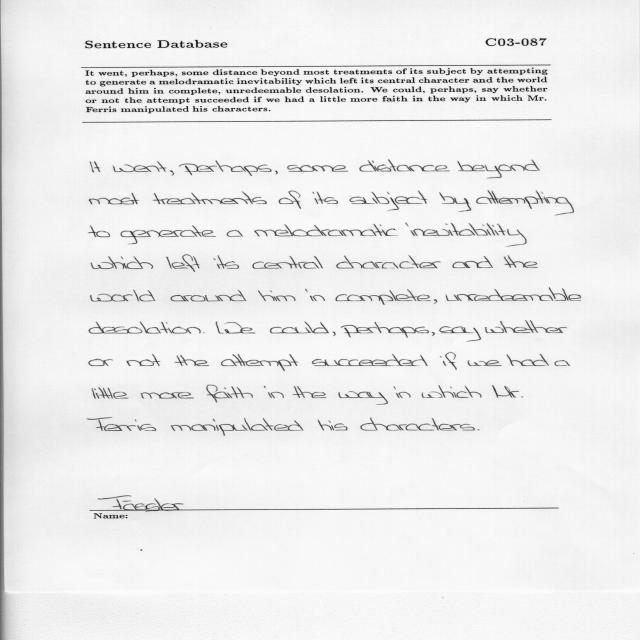word: (406, 222, 527, 247), (476, 191, 574, 216), (171, 418, 303, 436), (120, 225, 216, 245), (254, 224, 398, 236), (454, 288, 581, 301), (336, 289, 438, 305), (458, 160, 540, 179), (350, 191, 427, 211), (360, 418, 475, 431), (179, 160, 272, 176), (336, 255, 441, 269), (341, 322, 429, 338), (312, 354, 428, 366), (153, 192, 267, 204), (89, 322, 201, 334), (221, 354, 298, 371), (359, 160, 450, 172), (485, 321, 567, 333), (87, 417, 156, 431), (252, 256, 323, 269), (171, 290, 247, 301), (91, 256, 153, 269), (206, 385, 253, 402), (91, 290, 156, 302), (422, 385, 482, 398), (270, 322, 329, 334), (338, 391, 388, 405), (439, 326, 481, 342), (439, 192, 472, 212), (113, 161, 167, 172), (166, 255, 200, 272), (89, 193, 139, 204), (506, 354, 549, 366), (452, 256, 493, 268), (216, 322, 256, 334), (504, 255, 538, 268), (287, 165, 348, 172), (258, 291, 296, 302), (127, 354, 161, 366), (293, 386, 327, 398), (492, 385, 523, 398), (279, 191, 301, 209), (92, 387, 128, 398), (175, 355, 209, 366), (141, 392, 194, 399), (213, 255, 239, 269), (318, 420, 348, 431), (312, 192, 338, 204), (440, 352, 457, 370), (89, 226, 111, 238), (305, 289, 325, 301), (264, 386, 284, 398), (468, 360, 502, 366), (394, 386, 411, 398), (89, 359, 113, 366), (227, 230, 243, 237), (90, 162, 100, 173), (554, 360, 570, 366), (446, 295, 457, 301), (170, 171, 174, 176), (275, 171, 278, 175), (333, 332, 336, 336), (432, 332, 435, 336), (203, 332, 205, 333), (478, 430, 480, 431)
